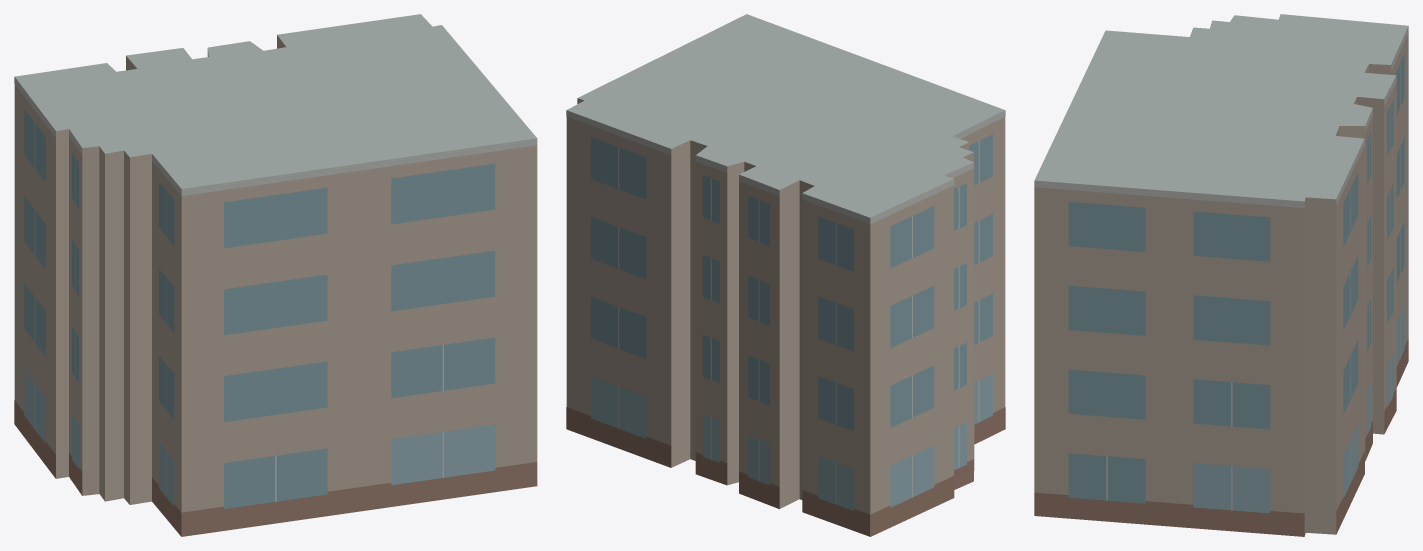
Rendered from survey-upis-32711810.glb.
3 views of the same model, side by side, from view 1: azimuth 30°, elevation 25°; view 2: azimuth 150°, elevation 25°; view 3: azimuth 270°, elevation 25° (orthographic). The views are drawn at different scales.
Visible parts, largest first — view 1: survey-upis-32711810.tmp; view 2: survey-upis-32711810.tmp; view 3: survey-upis-32711810.tmp.
Part boxes in pixels (x1,y1,x2,y2): survey-upis-32711810.tmp: [14, 14, 537, 536]; survey-upis-32711810.tmp: [566, 14, 1005, 536]; survey-upis-32711810.tmp: [1034, 14, 1408, 536].
Size of the model in its own units: 14.63 by 12.2 by 12.35.
